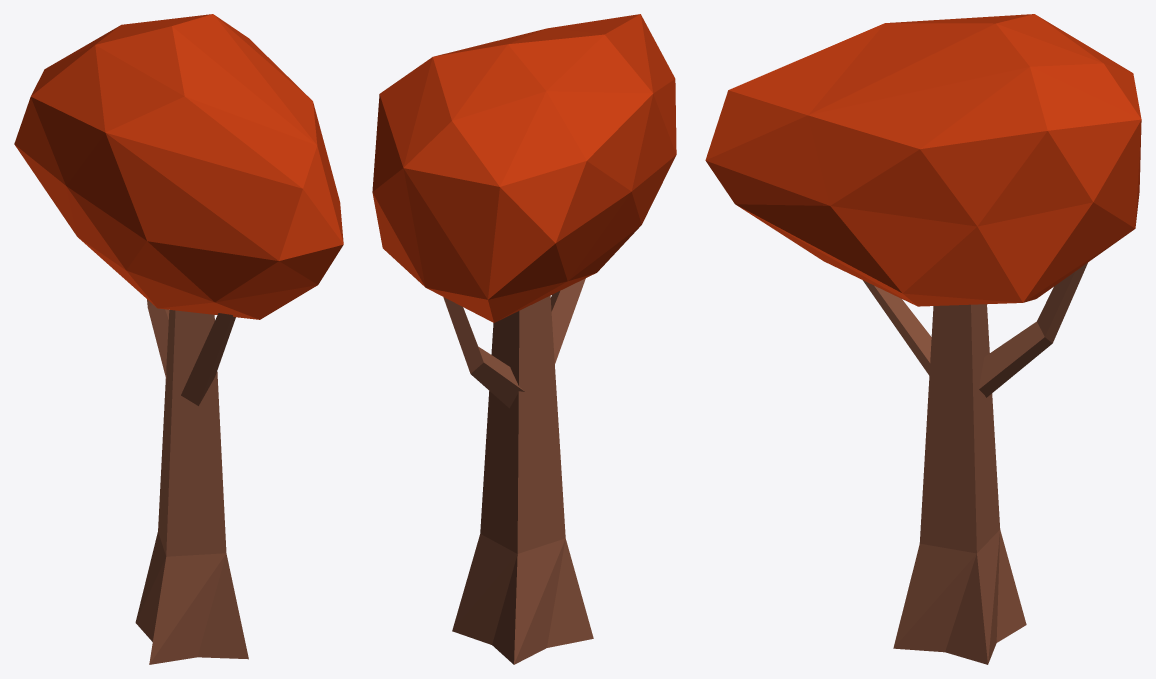
Rendered from Tree_37_summer_red_mat.fbx.
3 renders of one model, left to right at view 1: azimuth 30°, elevation 25°; view 2: azimuth 150°, elevation 25°; view 3: azimuth 270°, elevation 25°, orthographic.
Visible parts, largest first — view 1: Tree_37_summer_red_mat; view 2: Tree_37_summer_red_mat; view 3: Tree_37_summer_red_mat.
Boxes of the visible parts, left/top/right/bottom form: Tree_37_summer_red_mat: left=14, top=14, right=343, bottom=664; Tree_37_summer_red_mat: left=372, top=14, right=676, bottom=664; Tree_37_summer_red_mat: left=705, top=14, right=1141, bottom=664.
Bounding box in the file's own units: 93.74 × 233 × 151.
